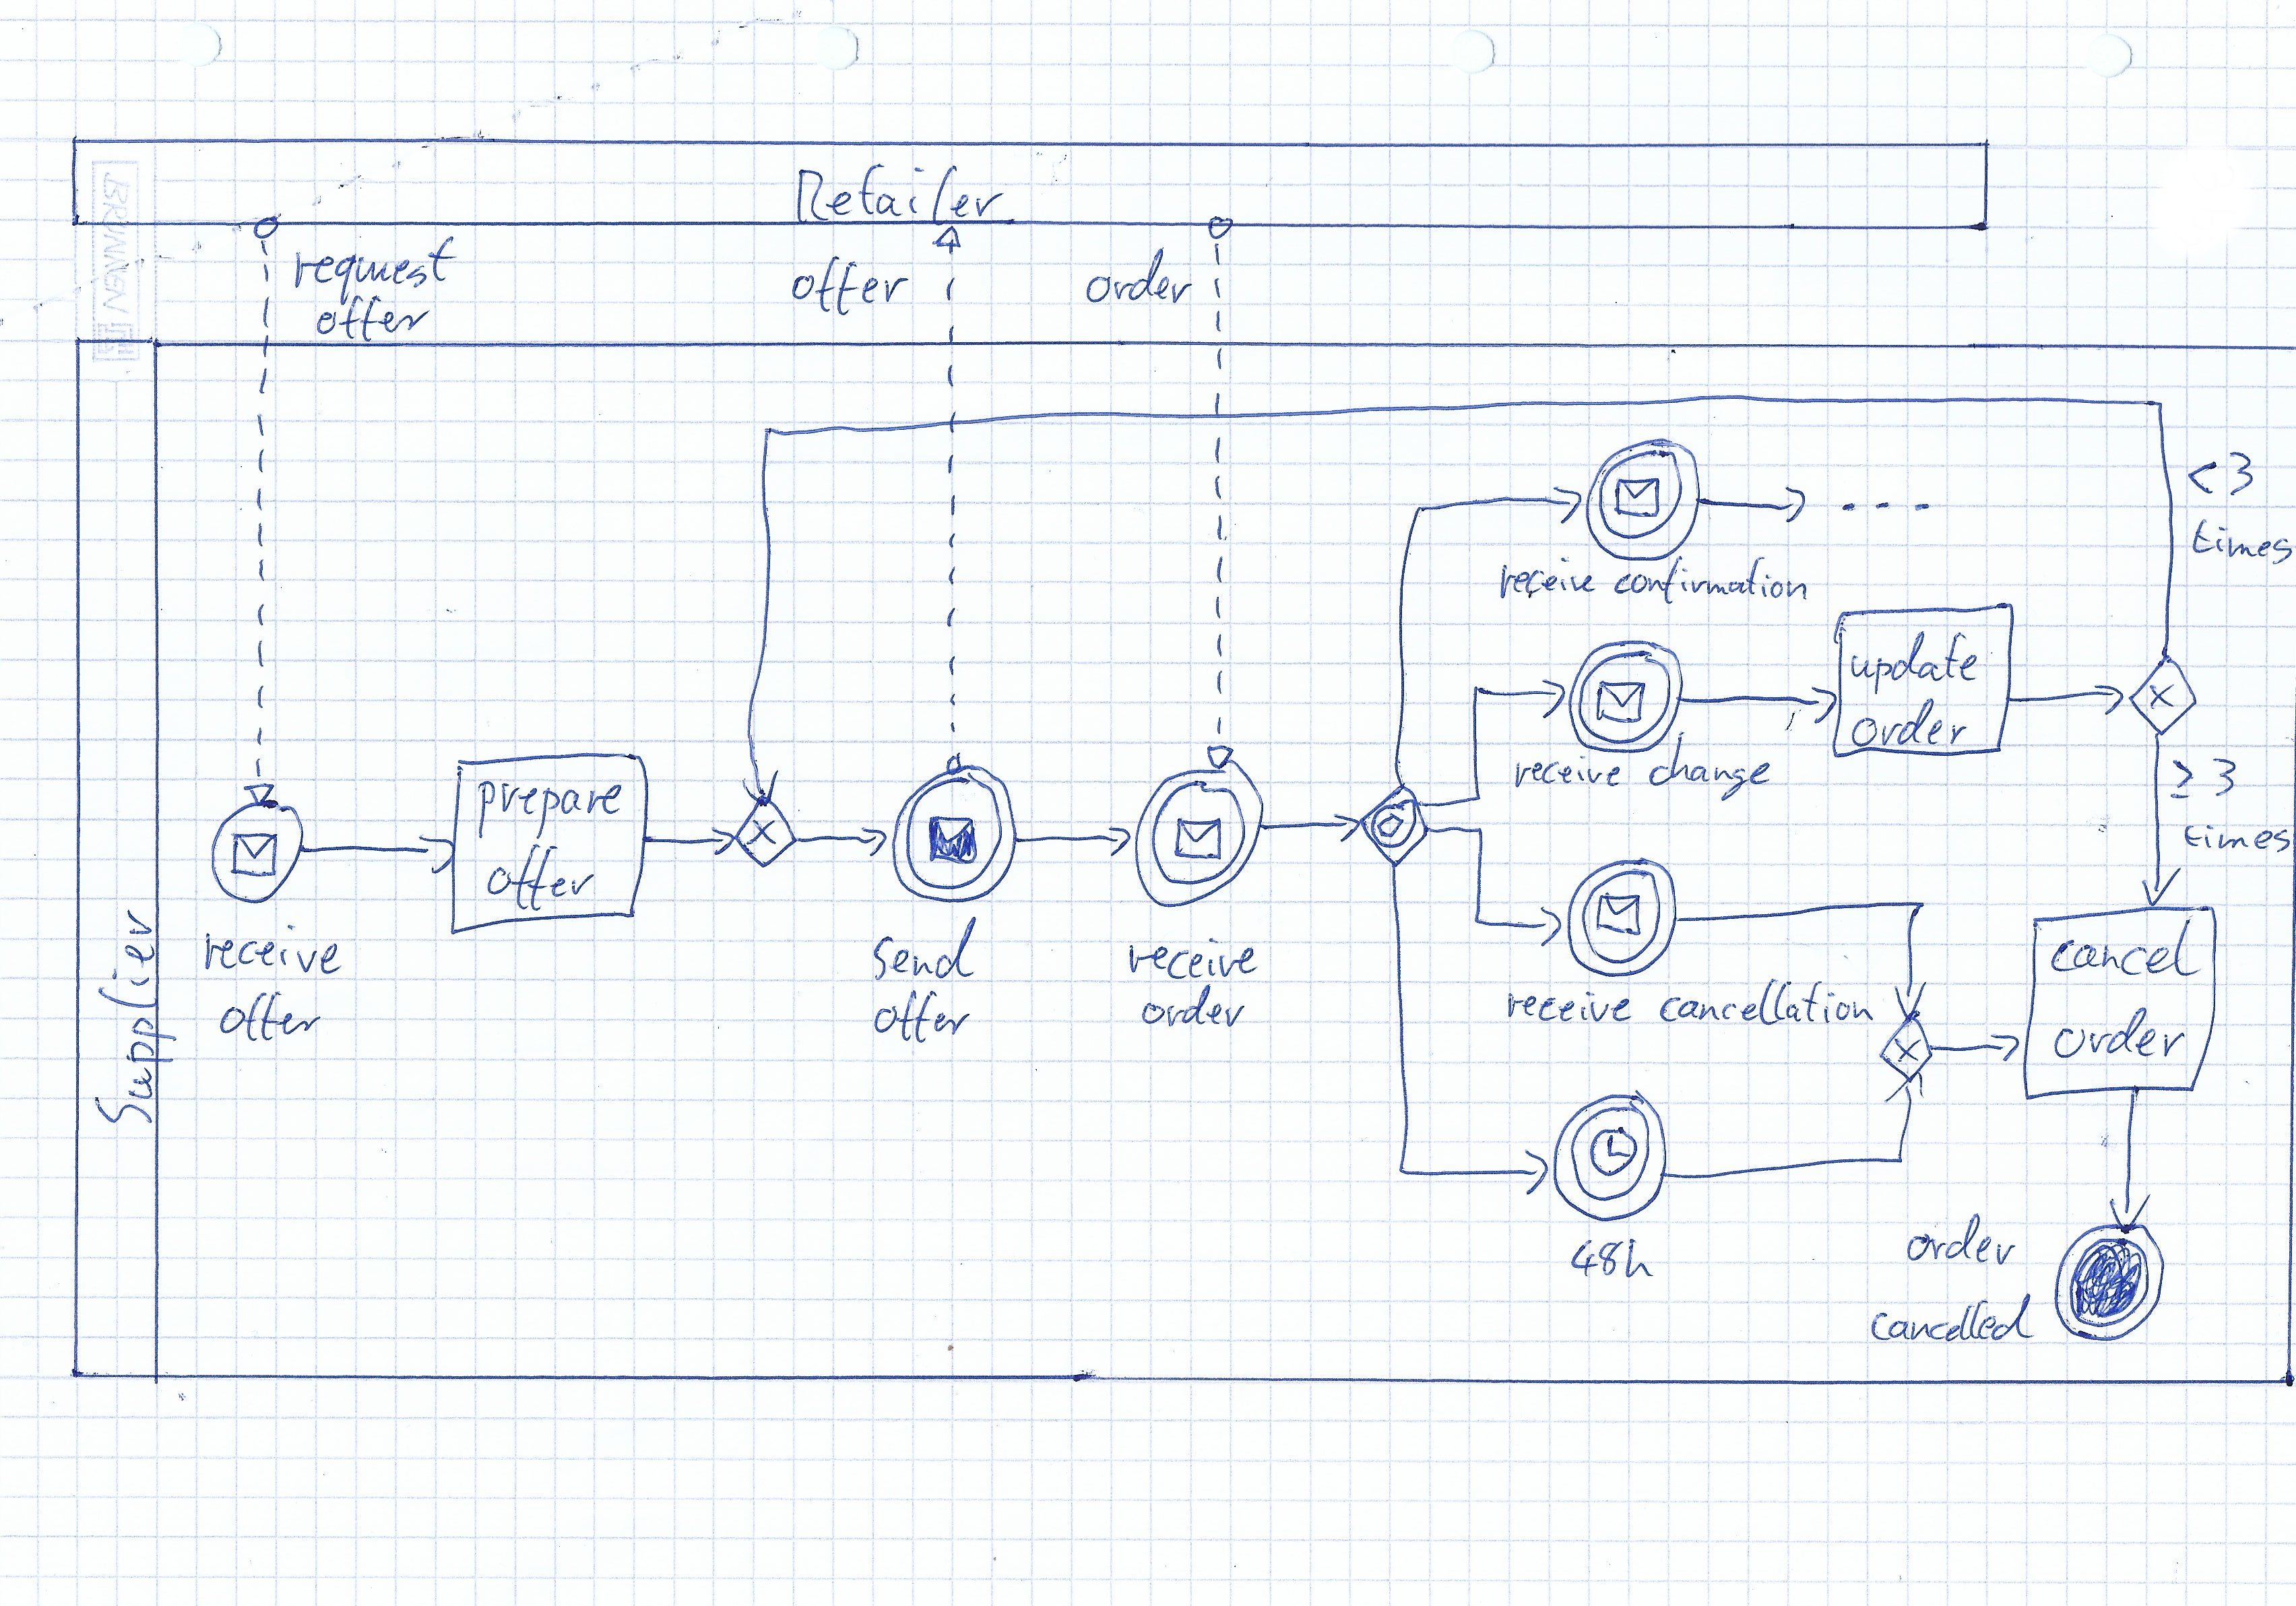48h: (1567, 1226, 1657, 1289)
<3: (2183, 450, 2261, 499)
>=3: (2165, 748, 2245, 804)
Retailer: (794, 166, 1007, 227)
Supplier: (92, 908, 180, 1123)
cancel: (2045, 912, 2204, 978)
cancellation: (1659, 985, 1872, 1031)
cancelled: (1870, 1294, 2034, 1348)
change: (1637, 732, 1781, 802)
confirmation: (1607, 553, 1813, 605)
offer: (473, 846, 609, 914), (789, 256, 919, 317), (220, 994, 319, 1046), (316, 300, 433, 340), (869, 999, 970, 1041)
order: (1888, 1208, 2029, 1269), (1082, 248, 1190, 316), (2055, 1004, 2183, 1058), (1839, 699, 1977, 748), (1138, 982, 1258, 1032)
prepare: (475, 774, 632, 840)
receive: (195, 922, 349, 990), (1124, 936, 1258, 985), (1511, 745, 1626, 795), (1493, 553, 1600, 605), (1500, 989, 1633, 1025)
request: (284, 239, 459, 293)
send: (867, 912, 987, 987)
times: (2181, 813, 2289, 863), (2186, 518, 2293, 565)
update: (1848, 629, 1982, 694)
